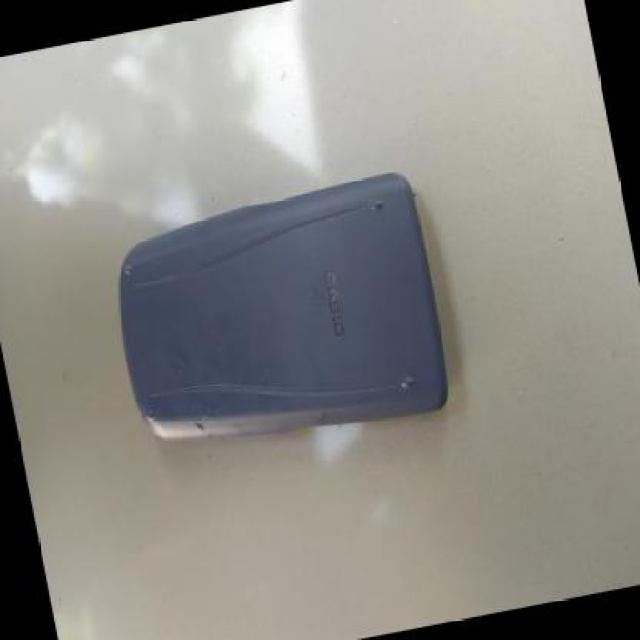Calculator: (76, 150, 475, 496)
